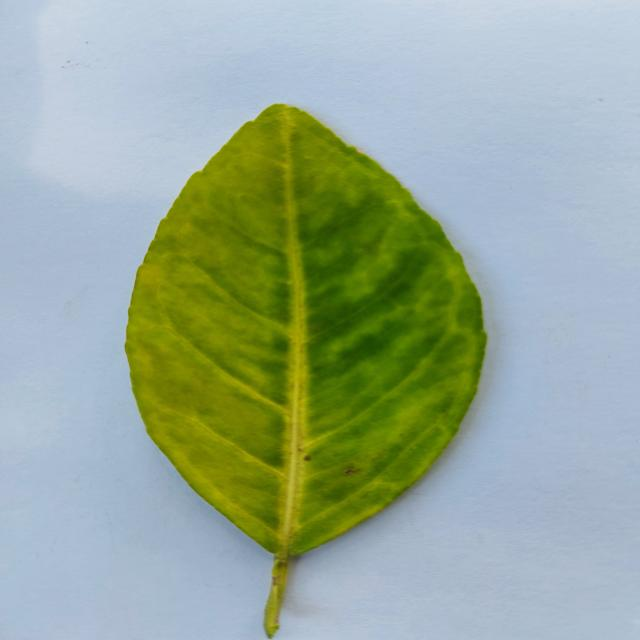greening: (126, 104, 485, 637)
